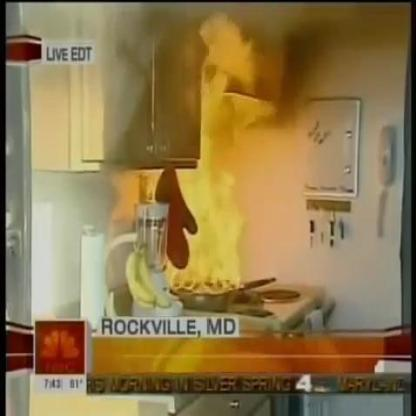fire: (164, 145, 260, 295)
